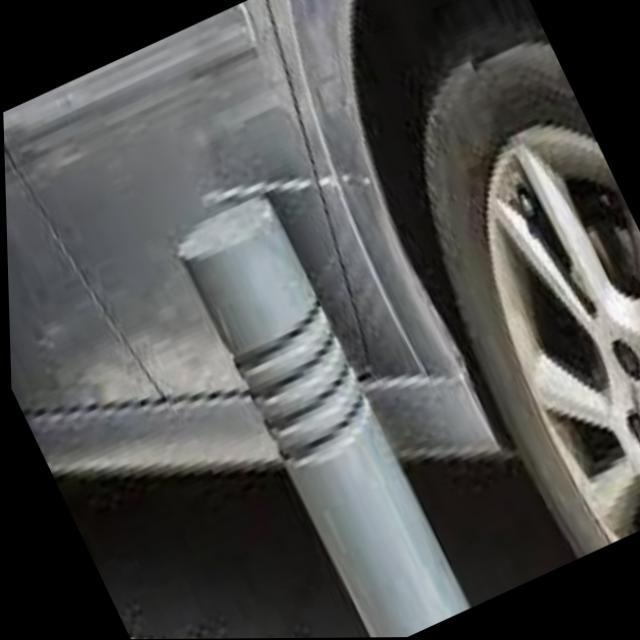scratch: (186, 157, 381, 223)
